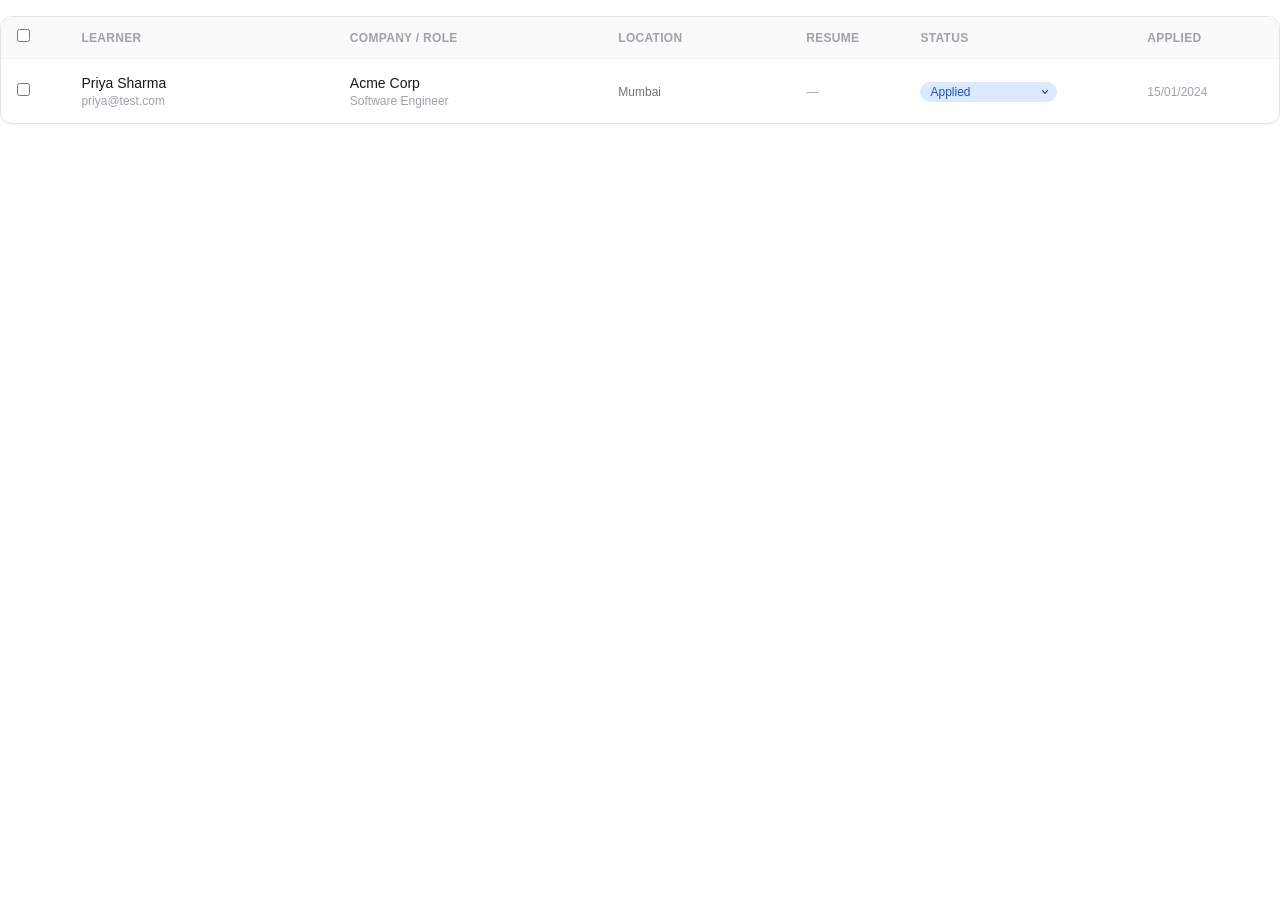
Test case: ApplicationsList › changing to not_shortlisted opens the reason modal
Step 1. Select "Not Shortlisted" in the dropdown → point(989, 92), box left=920, top=82, right=1058, bottom=102
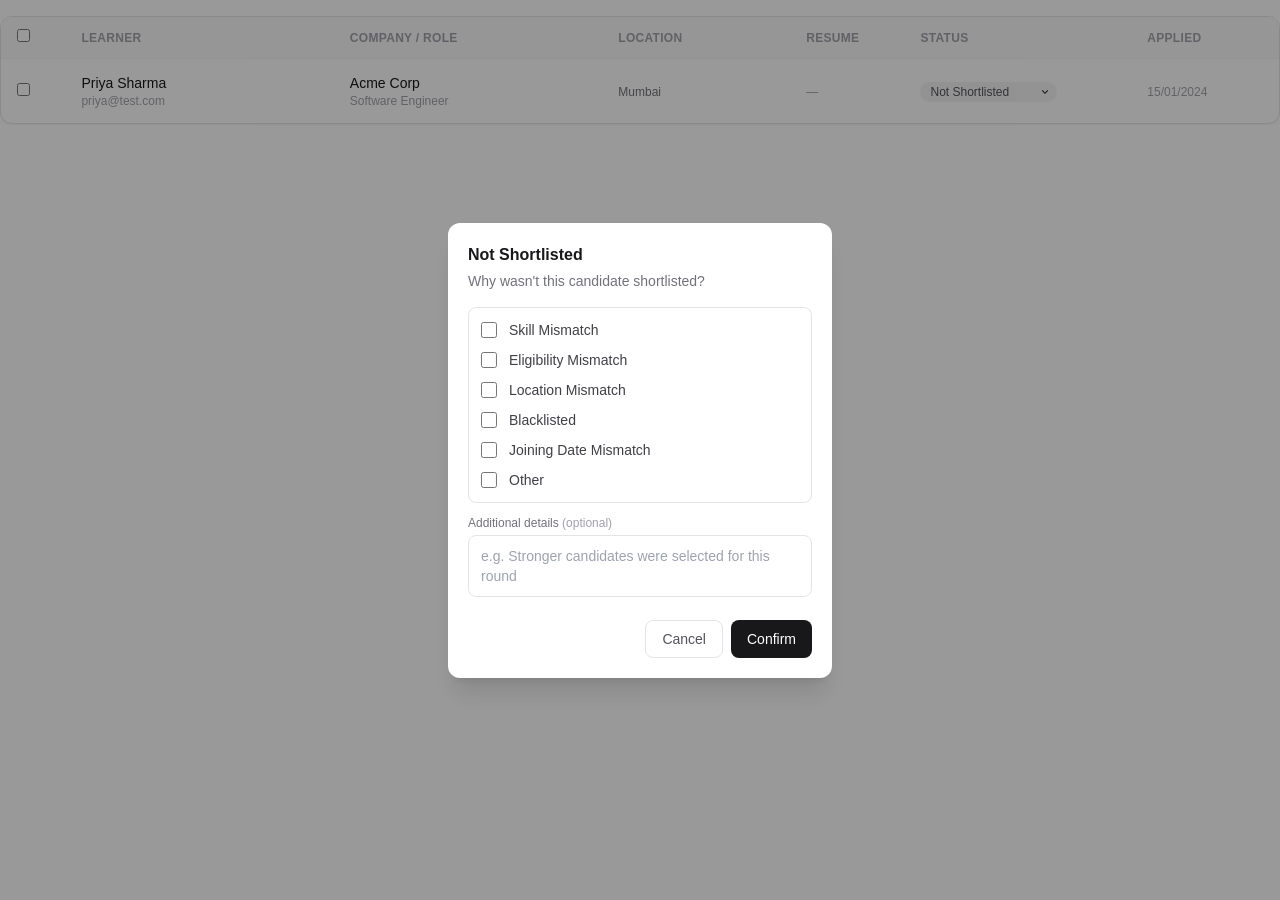
Now the text "Why wasn't this candidate shortlisted?" is shown, box left=468, top=272, right=705, bottom=288
